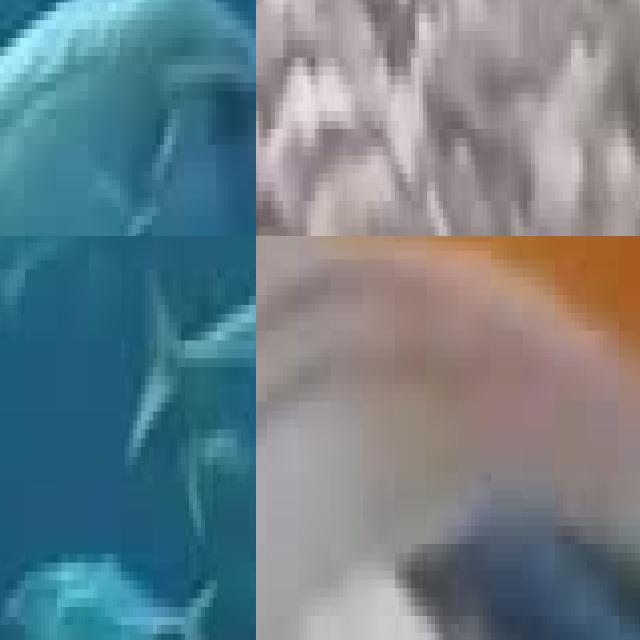fish: (0, 0, 256, 236), (256, 517, 640, 640)
